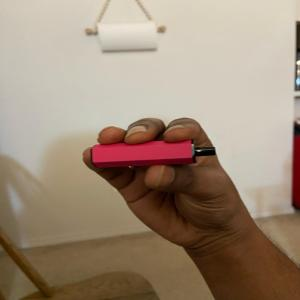Blume-E-Ciggirate: (86, 138, 220, 169)
